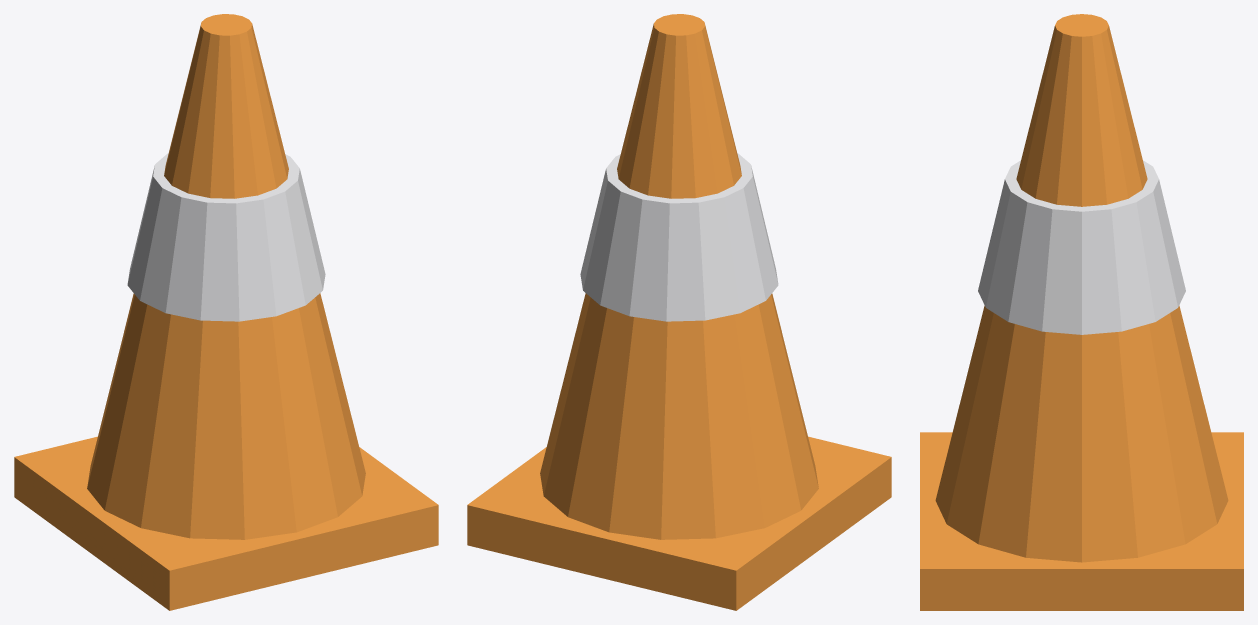
The picture shows the model from 3 angles, left to right: view 1: azimuth 30°, elevation 25°; view 2: azimuth 150°, elevation 25°; view 3: azimuth 270°, elevation 25°; orthographic projection. The views are drawn at different scales.
Parts seen in each view (by area): view 1: bt-d2-cone_body, bt-d2-cone_base, bt-d2-cone_band; view 2: bt-d2-cone_body, bt-d2-cone_base, bt-d2-cone_band; view 3: bt-d2-cone_body, bt-d2-cone_base, bt-d2-cone_band.
Part boxes in pixels (x1,y1,x2,y2): bt-d2-cone_body: (87, 14, 365, 539); bt-d2-cone_base: (14, 436, 438, 610); bt-d2-cone_band: (127, 153, 325, 321); bt-d2-cone_body: (540, 14, 818, 539); bt-d2-cone_base: (467, 436, 891, 610); bt-d2-cone_band: (580, 153, 778, 321); bt-d2-cone_body: (935, 14, 1228, 562); bt-d2-cone_base: (920, 432, 1243, 610); bt-d2-cone_band: (978, 160, 1185, 334).
Size of the model in its own units: 0.42 by 0.74 by 0.42.
